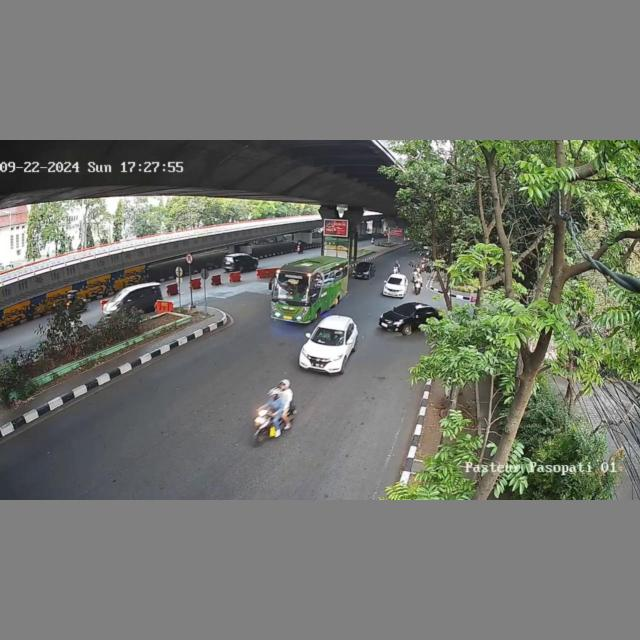windshield: (311, 327, 348, 345), (388, 277, 405, 286)
